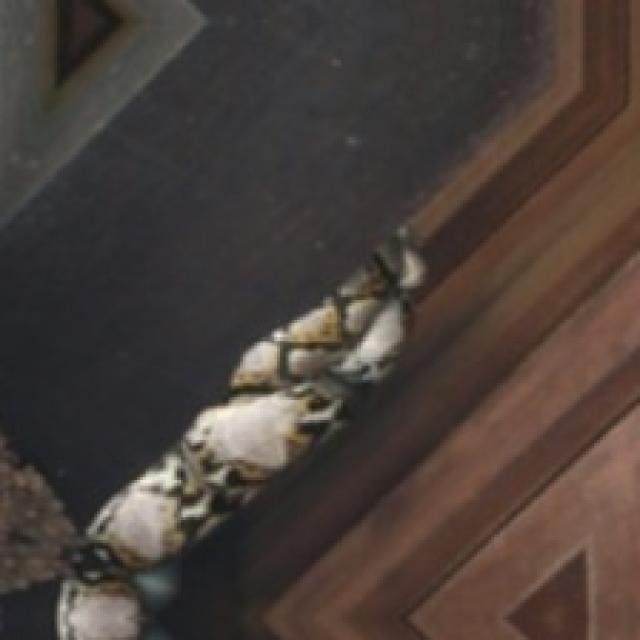reticulated python: (0, 226, 423, 637), (57, 226, 423, 637)
